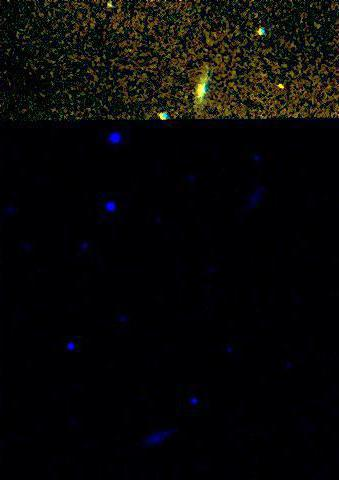star: (265, 70, 295, 100)
